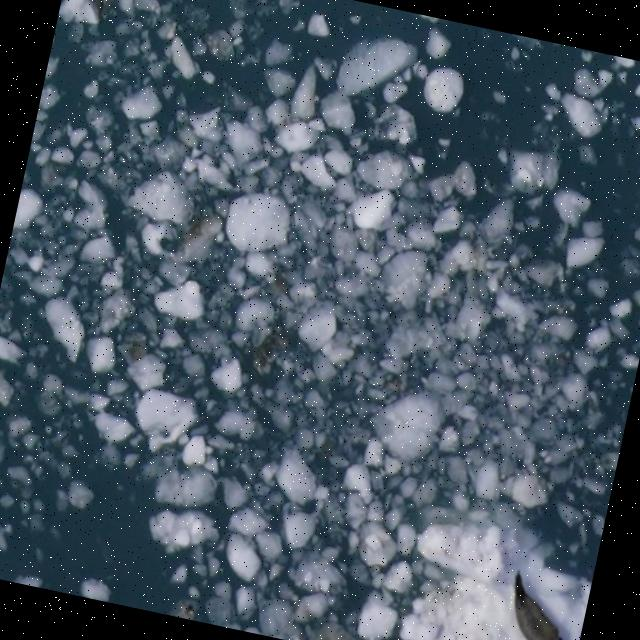seal: (489, 569, 564, 640)
